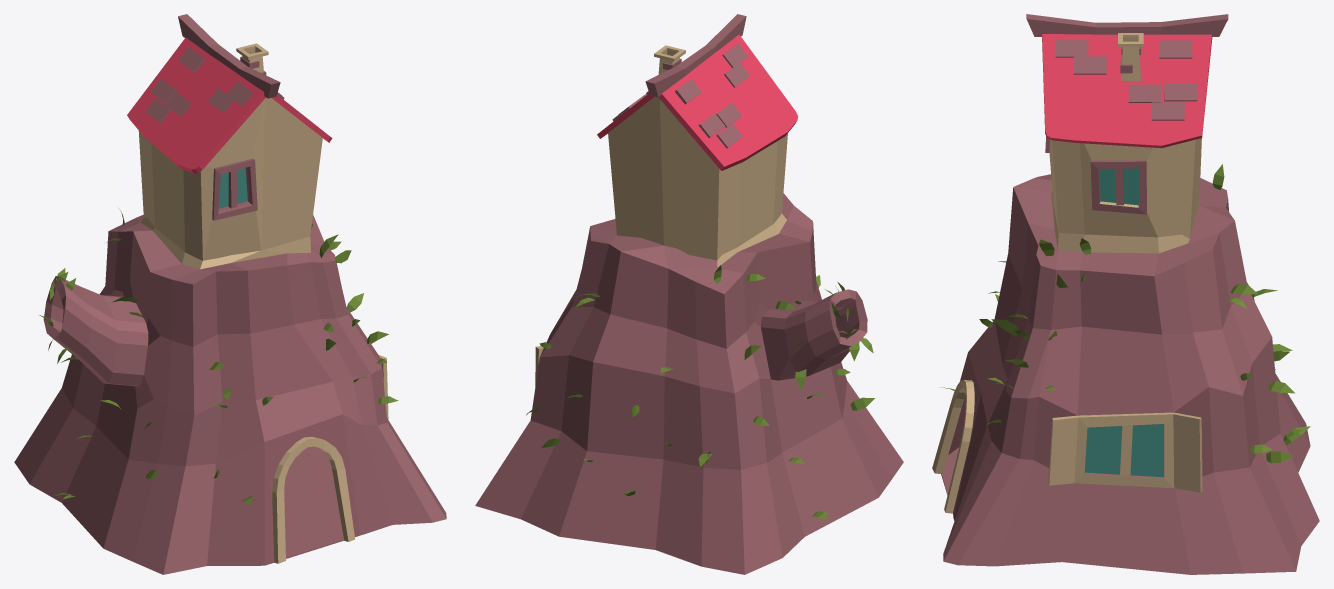
File: stump_house_with_solidify (1).fbx
3 renders of one model, left to right at view 1: azimuth 30°, elevation 25°; view 2: azimuth 150°, elevation 25°; view 3: azimuth 270°, elevation 25°, orthographic. The views are drawn at different scales.
Visible parts, largest first — view 1: Tree_house, Roof, Cube.008, Cube.001; view 2: Tree_house, Roof, Cube.008, Cube.001; view 3: Tree_house, Roof, Cube.008, Cube.001, Telhas, Cube.003, Cube.004, Cube.006, Cube.005, Cube.002.
Part boxes in pixels (x1=…): Tree_house: x1=14, y1=97, x2=446, y2=574; Roof: x1=127, y1=37, x2=332, y2=173; Cube.008: x1=178, y1=14, x2=280, y2=98; Cube.001: x1=236, y1=43, x2=268, y2=74; Tree_house: x1=475, y1=96, x2=903, y2=574; Roof: x1=597, y1=34, x2=798, y2=170; Cube.008: x1=645, y1=14, x2=746, y2=96; Cube.001: x1=654, y1=45, x2=685, y2=74; Tree_house: x1=932, y1=136, x2=1319, y2=574; Roof: x1=1042, y1=34, x2=1212, y2=148; Cube.008: x1=1026, y1=14, x2=1228, y2=36; Cube.001: x1=1118, y1=33, x2=1143, y2=80; Telhas: x1=1159, y1=40, x2=1192, y2=58; Cube.003: x1=1073, y1=56, x2=1106, y2=74; Cube.004: x1=1151, y1=102, x2=1184, y2=120; Cube.006: x1=1164, y1=83, x2=1197, y2=101; Cube.005: x1=1128, y1=84, x2=1161, y2=102; Cube.002: x1=1055, y1=39, x2=1088, y2=57.
Bounding box in the file's own units: 308 × 393 × 289.
